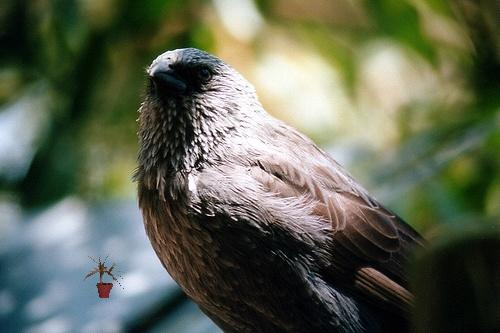tampered: (84, 255, 126, 298)
